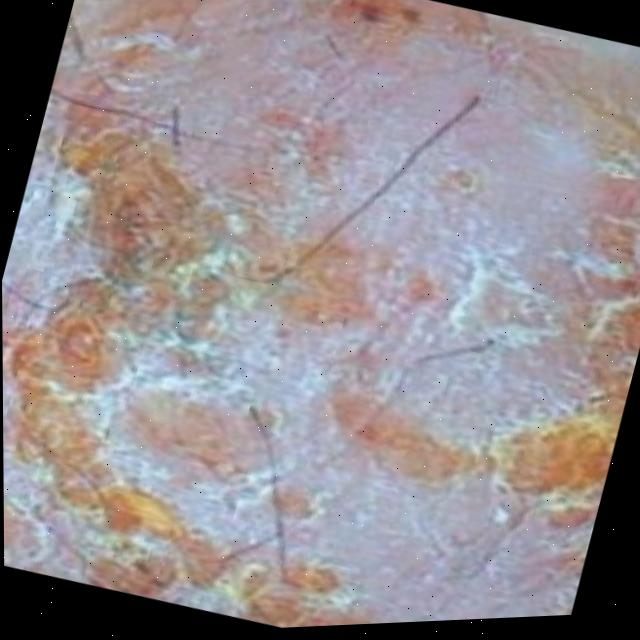Eczema: (0, 4, 640, 640)
